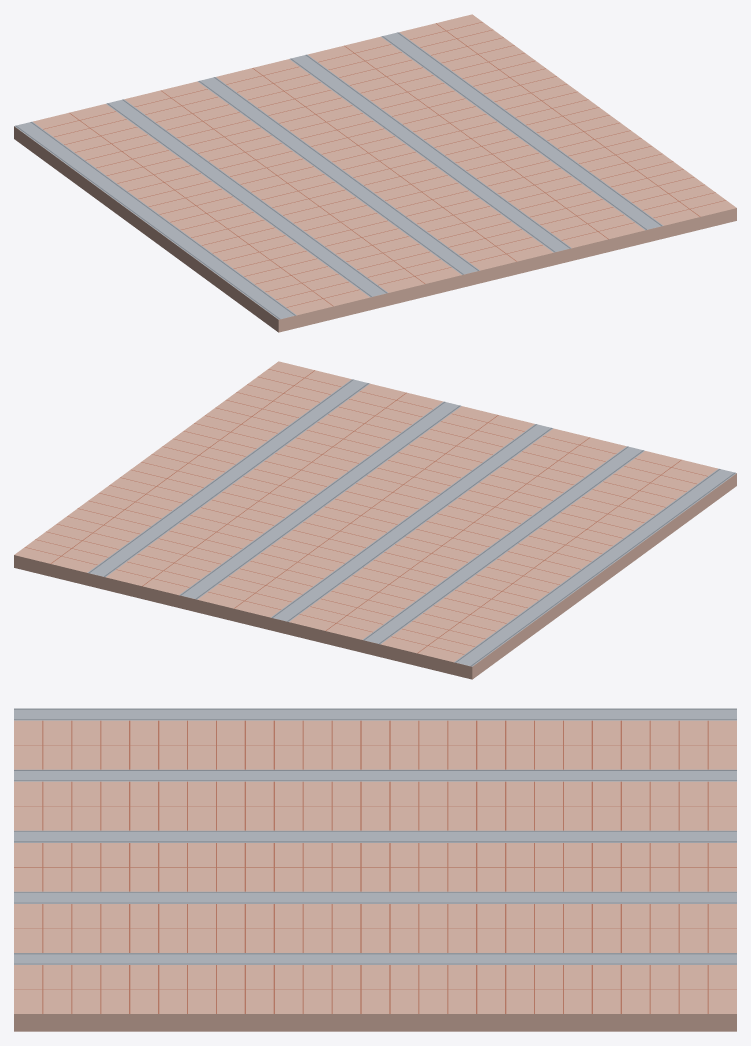
The model's file is piso_ladrilho_rosado.glb.
3 views of the same model, one above another, from view 1: azimuth 30°, elevation 25°; view 2: azimuth 150°, elevation 25°; view 3: azimuth 270°, elevation 25° (orthographic). The views are drawn at different scales.
Visible parts, largest first — view 1: piso_ladrilho_rosado; view 2: piso_ladrilho_rosado; view 3: piso_ladrilho_rosado.
Part boxes in pixels (<box>): piso_ladrilho_rosado: <box>14,14,736,332</box>; piso_ladrilho_rosado: <box>14,361,736,679</box>; piso_ladrilho_rosado: <box>14,708,736,1031</box>.
Bounding box in the file's own units: 15 × 0.404 × 15.
1 material, 1 textured.
